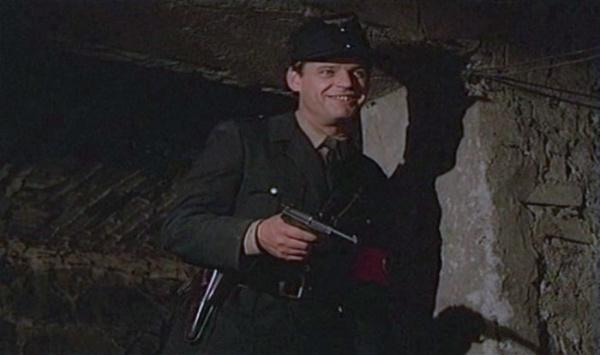Gun: (281, 204, 359, 248)
